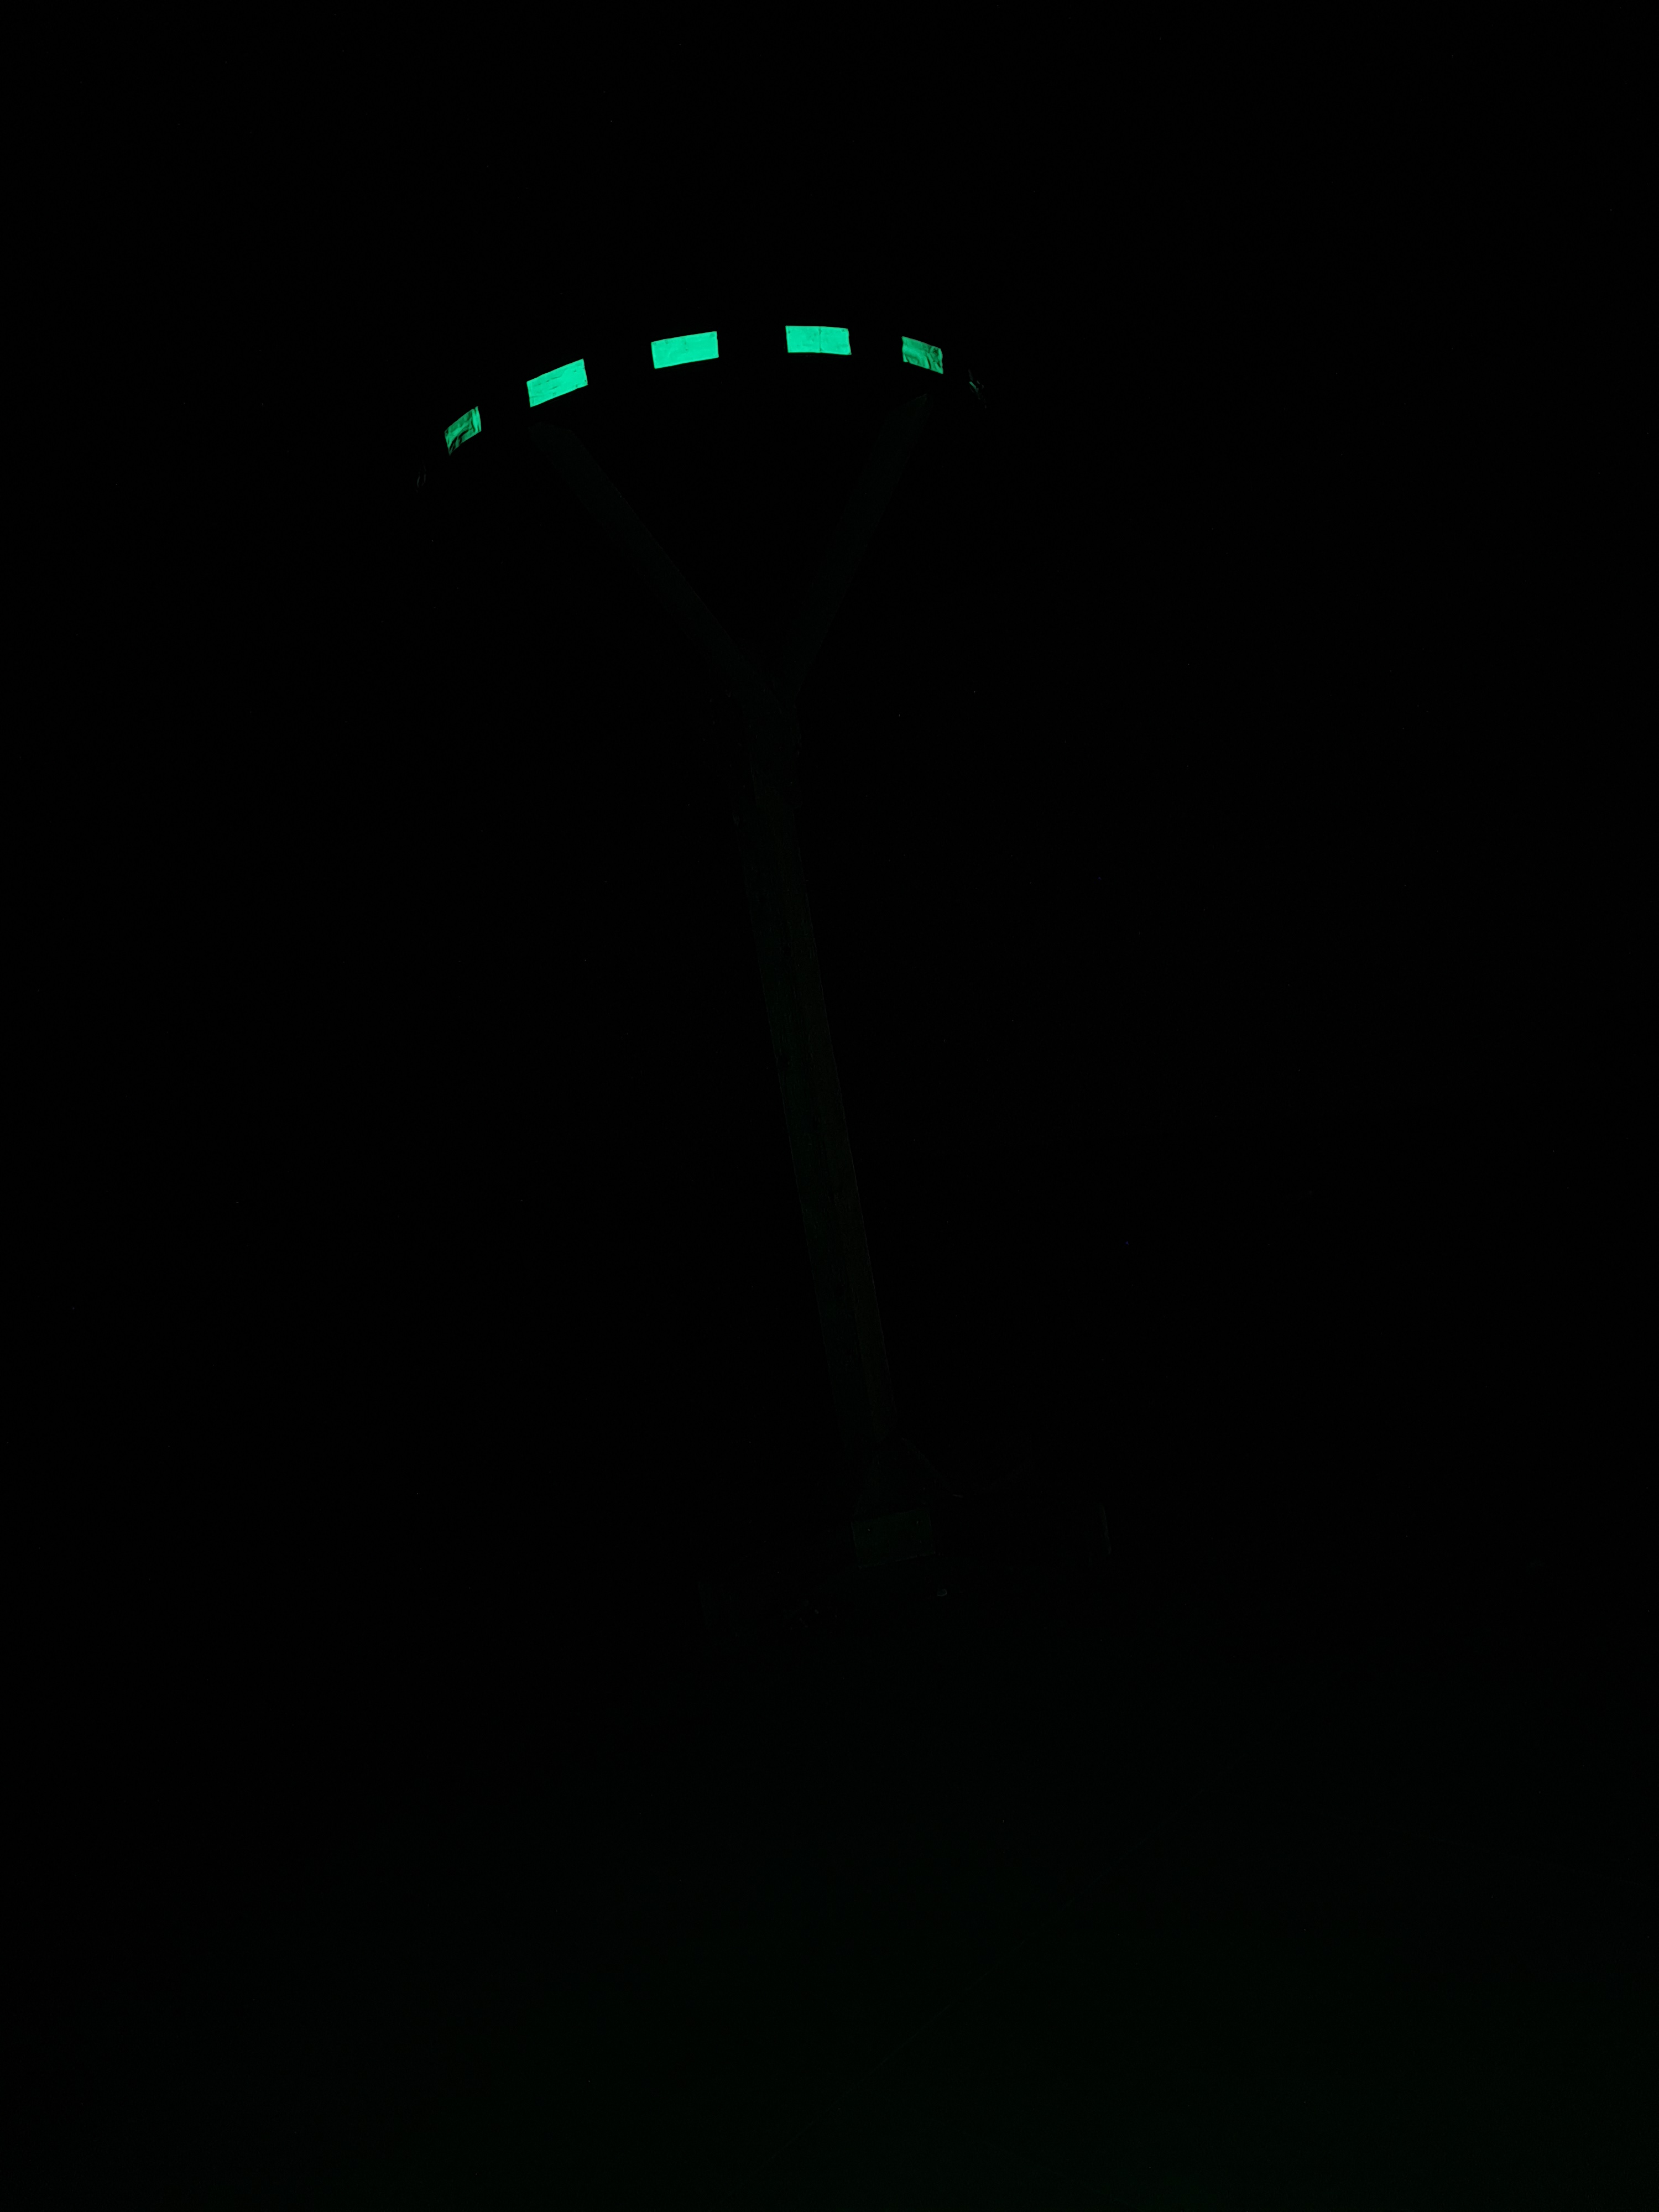hoop: (443, 319, 950, 453)
